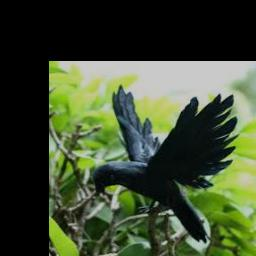Crow: (93, 84, 238, 244)
